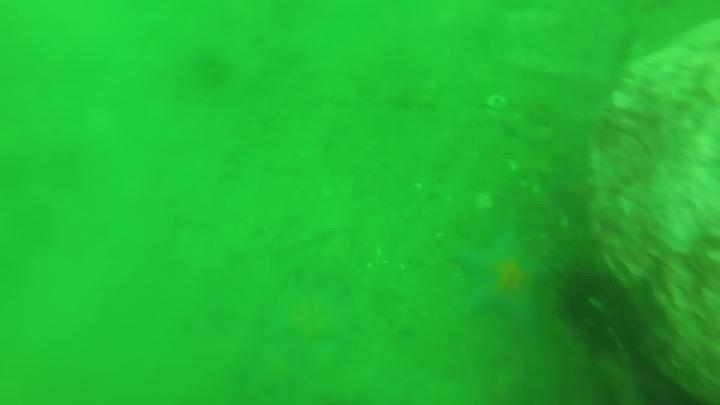echinus: (546, 264, 648, 378)
scallop: (488, 95, 510, 110)
starfish: (452, 236, 550, 323)
